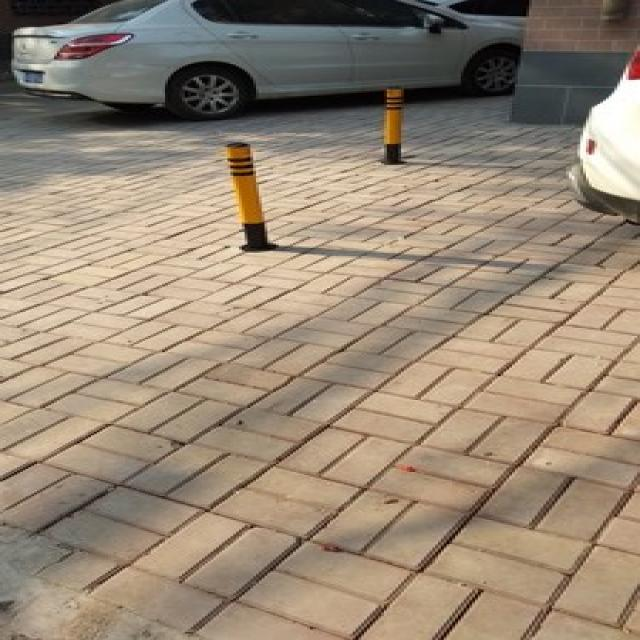car: (3, 0, 518, 117)
warning_column: (225, 139, 273, 250), (372, 83, 407, 162)
